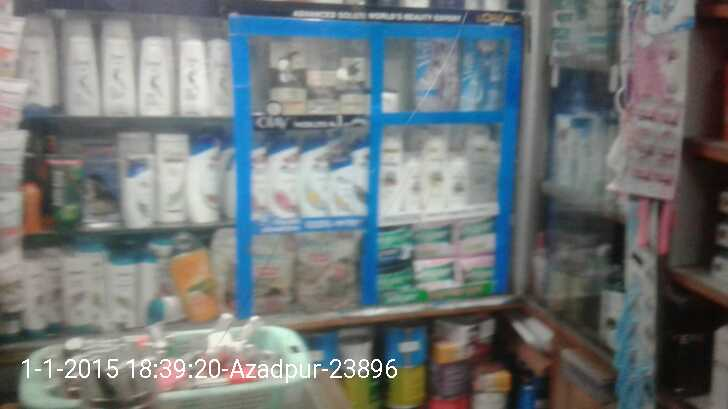venus: (459, 40, 508, 113), (415, 37, 459, 113)
